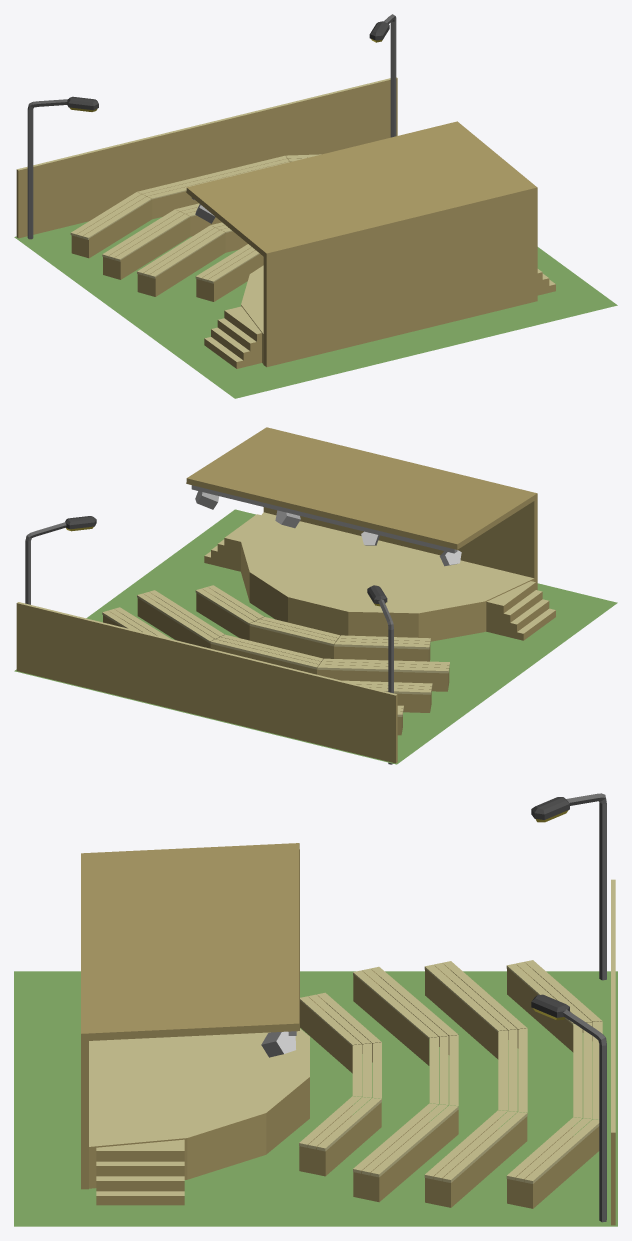
File: landscape_entertainment_004.glb
The picture shows the model from 3 angles, top to bottom: view 1: azimuth 30°, elevation 25°; view 2: azimuth 150°, elevation 25°; view 3: azimuth 270°, elevation 25°; orthographic projection. The views are drawn at different scales.
Parts seen in each view (by area): view 1: landscape_entertainment_004; view 2: landscape_entertainment_004; view 3: landscape_entertainment_004.
Boxes of the visible parts, x1=… form: landscape_entertainment_004: x1=14, y1=14, x2=617, y2=398; landscape_entertainment_004: x1=14, y1=427, x2=617, y2=764; landscape_entertainment_004: x1=14, y1=793, x2=617, y2=1226.
Size of the model in its own units: 16 by 6.02 by 16.
1 material, 1 textured.
